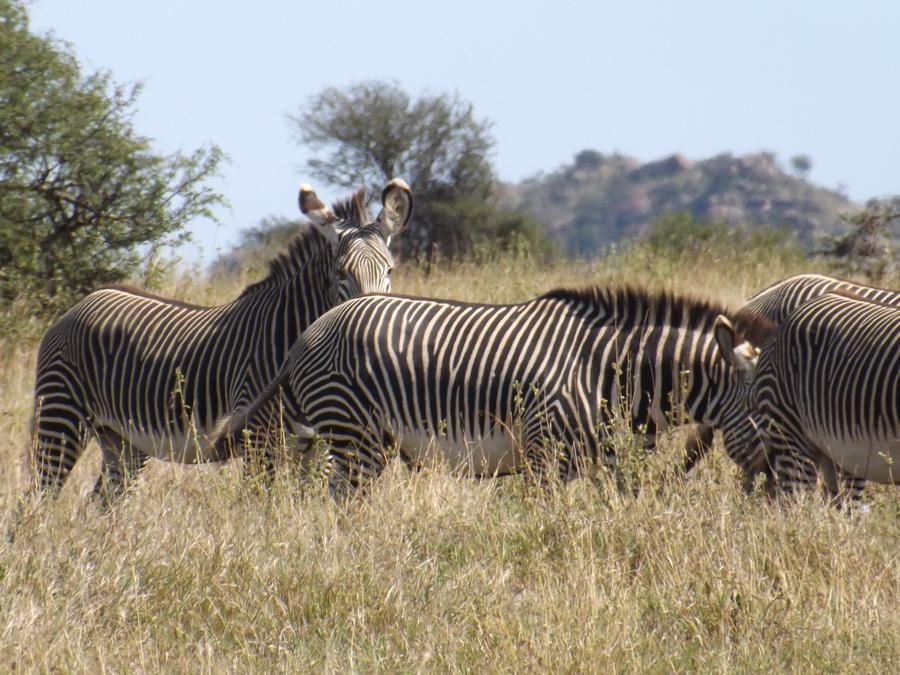zebra_grevys: (294, 268, 613, 462), (31, 254, 255, 429)
